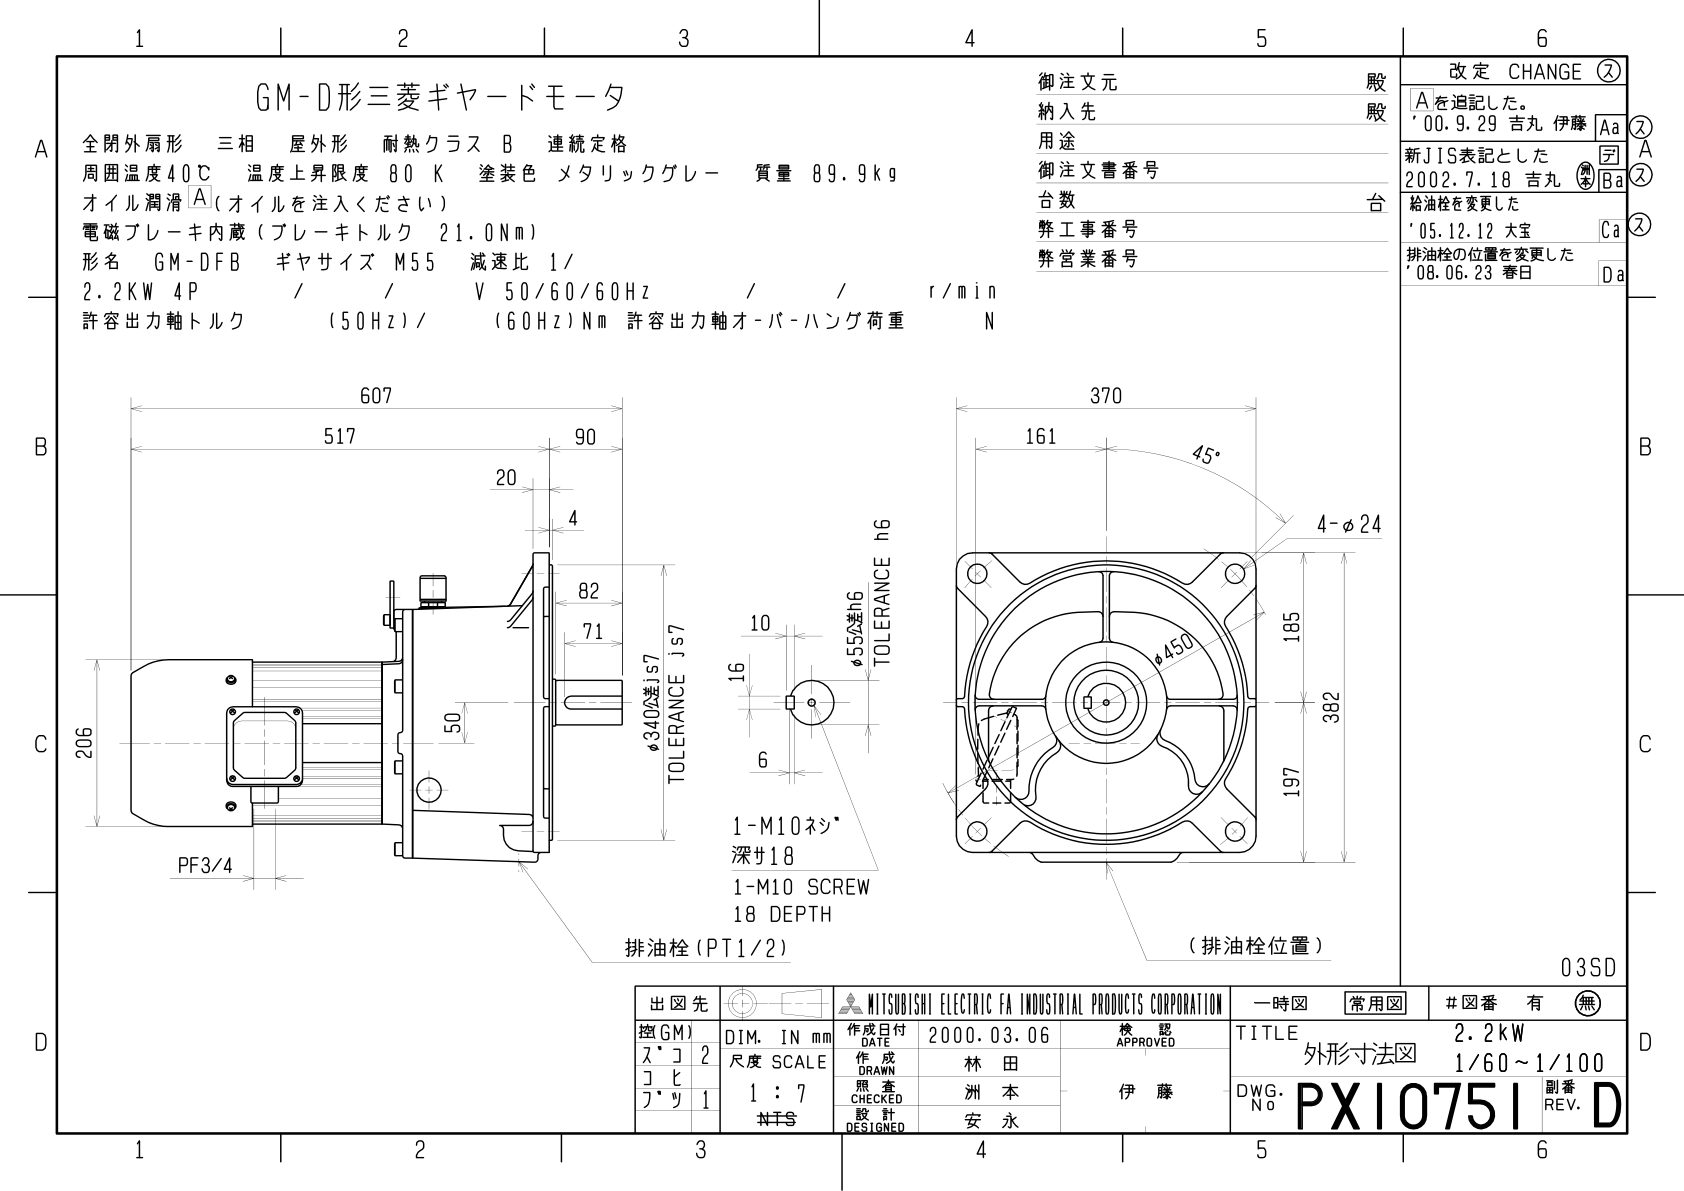GM_D_屋外＿三相_フランジ: (1, 1, 1669, 1178)
